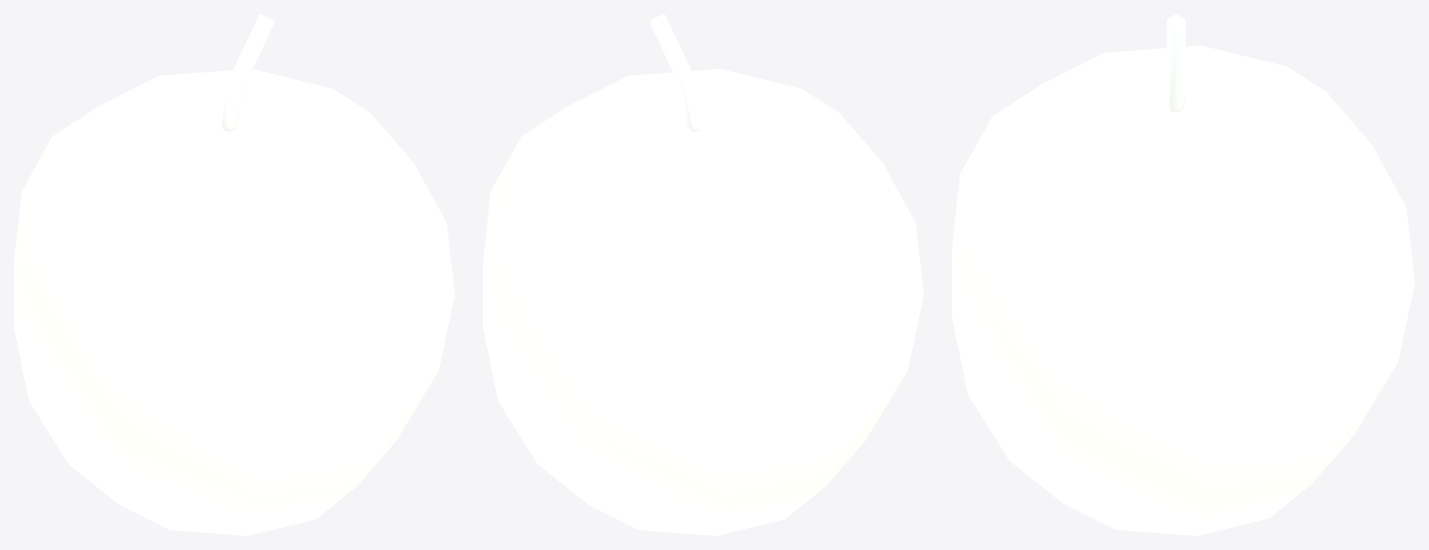
The model's file is Apple.glb.
The picture shows the model from 3 angles, left to right: view 1: azimuth 30°, elevation 25°; view 2: azimuth 150°, elevation 25°; view 3: azimuth 270°, elevation 25°; orthographic projection. The views are drawn at different scales.
Visible parts, largest first — view 1: alt1.015; view 2: alt1.015; view 3: alt1.015.
Part boxes in pixels (x1=…): alt1.015: x1=14, y1=14, x2=454, y2=535; alt1.015: x1=483, y1=14, x2=923, y2=535; alt1.015: x1=952, y1=14, x2=1414, y2=535.
Bounding box in the file's own units: 9.38 × 11.41 × 9.24.
